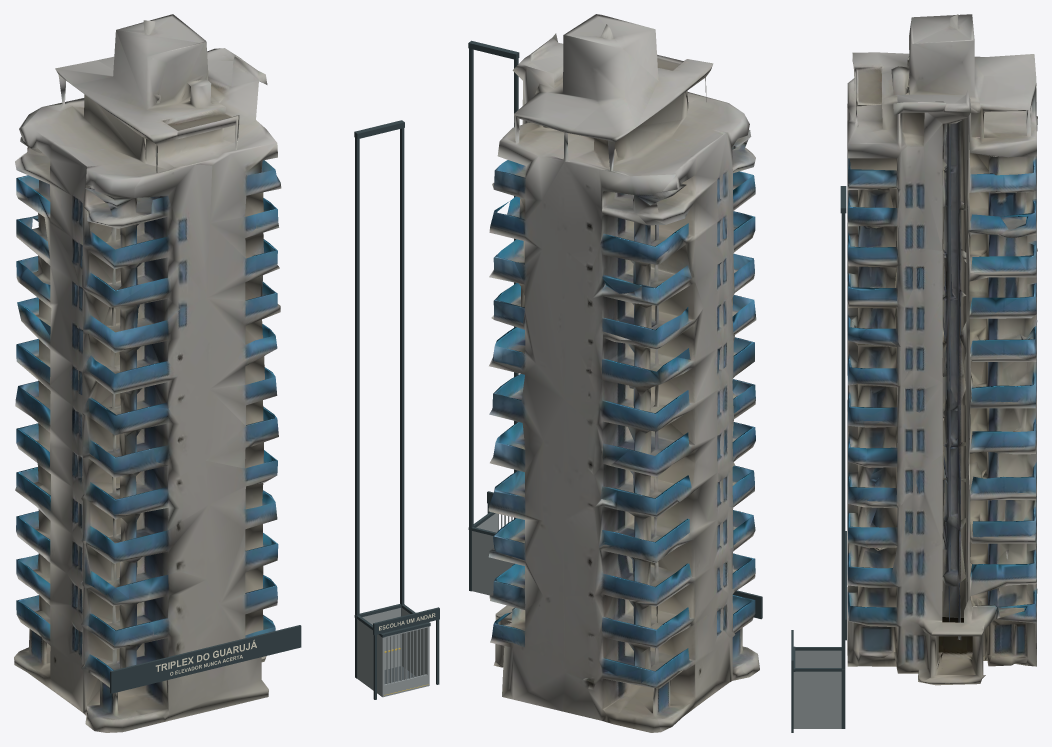
Rendered from secret-triplex.glb.
The picture shows the model from 3 angles, left to right: view 1: azimuth 30°, elevation 25°; view 2: azimuth 150°, elevation 25°; view 3: azimuth 270°, elevation 25°; orthographic projection. The views are drawn at different scales.
Visible parts, largest first — view 1: tripo_node_ec400528-5a9c-4dd8-a9bd-4df499f225db, Triplex_Sign, Lift_Guide_Rail, Lift_Guide_Rail.001, Lift_Cabin_Side, Lift_Cabin_Side.001, Lift_Entrance_Sign, Lift_Cabin_Back; view 2: tripo_node_ec400528-5a9c-4dd8-a9bd-4df499f225db, Lift_Guide_Rail.001, Lift_Cabin_Back; view 3: tripo_node_ec400528-5a9c-4dd8-a9bd-4df499f225db, Lift_Cabin_Side.001, Lift_Guide_Rail.001, Lift_Cabin_Side.
Part boxes in pixels (box(x1,y1,x2,y2)): tripo_node_ec400528-5a9c-4dd8-a9bd-4df499f225db: box(14, 14, 281, 732); Triplex_Sign: box(110, 625, 301, 693); Lift_Guide_Rail: box(355, 135, 359, 678); Lift_Guide_Rail.001: box(400, 128, 404, 616); Lift_Cabin_Side: box(357, 619, 384, 697); Lift_Cabin_Side.001: box(402, 608, 429, 686); Lift_Entrance_Sign: box(373, 607, 439, 635); Lift_Cabin_Back: box(362, 608, 401, 669); tripo_node_ec400528-5a9c-4dd8-a9bd-4df499f225db: box(488, 14, 759, 732); Lift_Guide_Rail.001: box(469, 48, 473, 591); Lift_Cabin_Back: box(472, 531, 513, 595); tripo_node_ec400528-5a9c-4dd8-a9bd-4df499f225db: box(847, 14, 1037, 685); Lift_Cabin_Side.001: box(793, 671, 841, 728); Lift_Guide_Rail.001: box(841, 210, 845, 728); Lift_Cabin_Side: box(795, 650, 841, 667).
Bounding box in the file's own units: 17.9 × 36 × 12.95.
6 materials, 1 textured.
